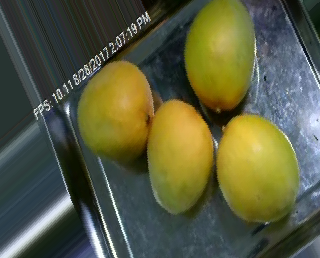Mango: (213, 113, 302, 226), (141, 93, 217, 218), (179, 0, 259, 109), (76, 58, 156, 163)
